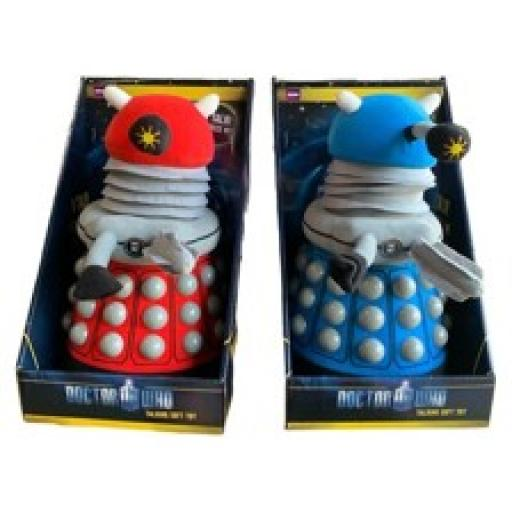dalek: (289, 85, 494, 376), (60, 78, 226, 377)
